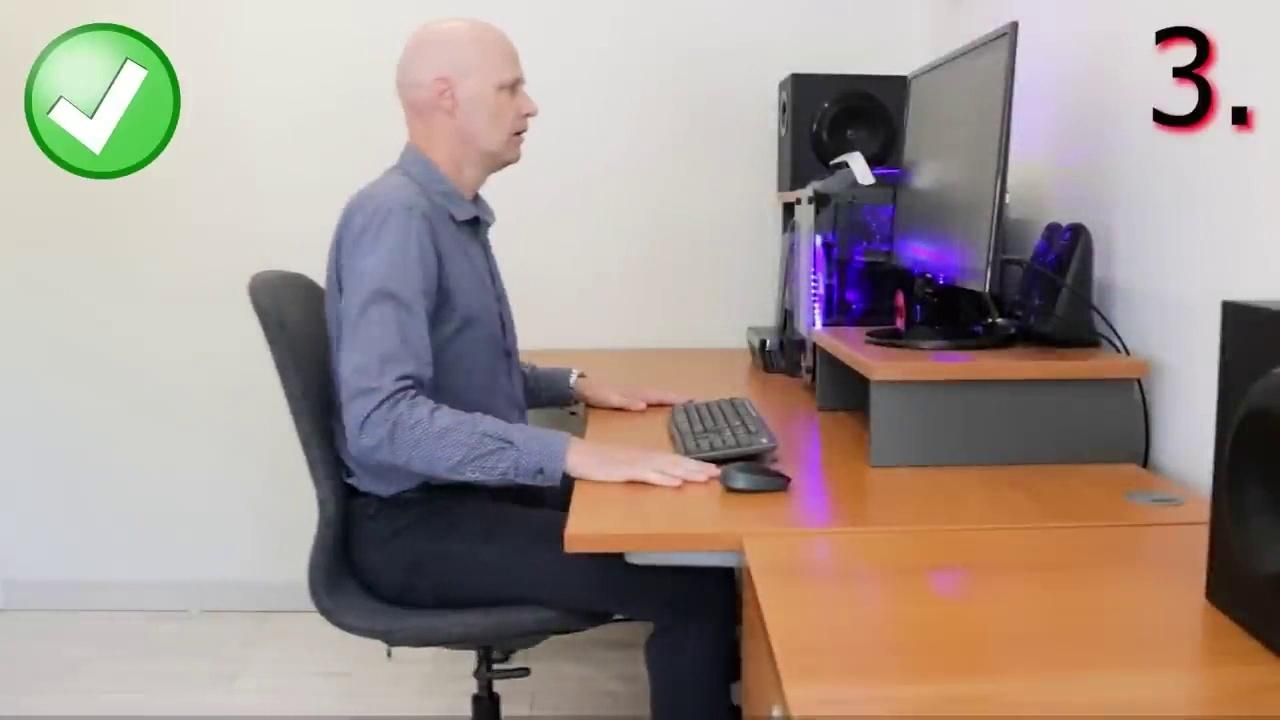GoodPosture: (323, 19, 738, 719)
